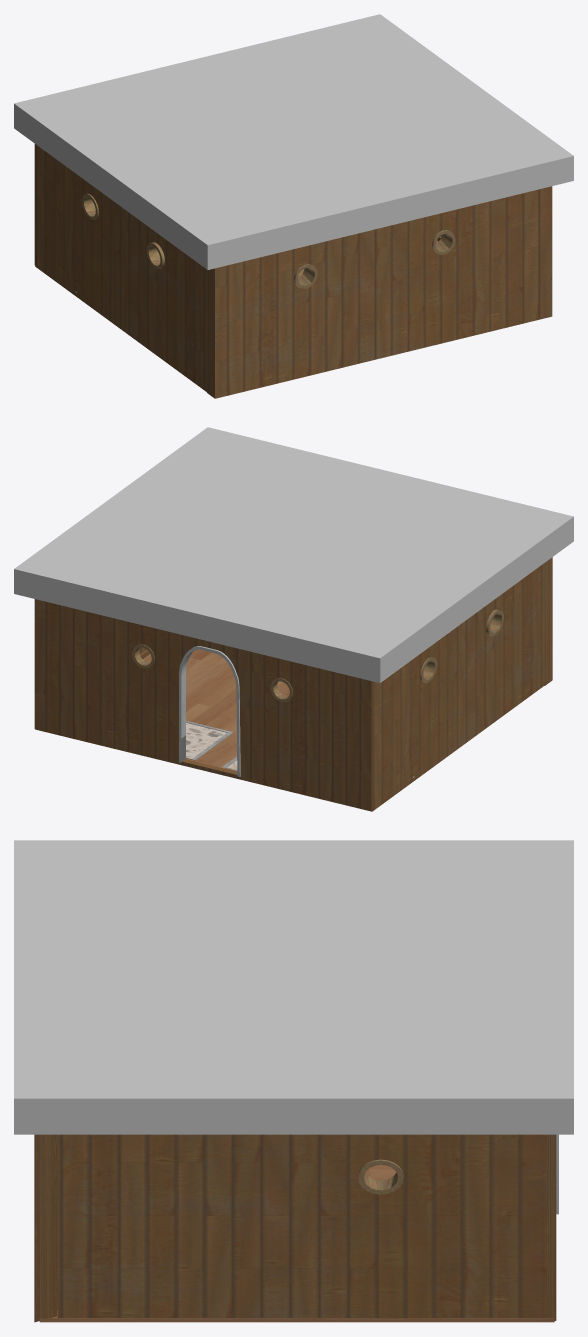
File: lounge.obj
The picture shows the model from 3 angles, top to bottom: view 1: azimuth 30°, elevation 25°; view 2: azimuth 150°, elevation 25°; view 3: azimuth 270°, elevation 25°; orthographic projection. The views are drawn at different scales.
Parts seen in each view (by area): view 1: polySurface184, polySurface189, pCube53; view 2: polySurface184, polySurface6 polySurface133, pCube53, pCube49, polySurface132, polySurface189, polySurface6 polySurface72; view 3: polySurface184, polySurface192, polySurface189, pCube49, polySurface6 polySurface133, polySurface6 polySurface191.
Boxes of the visible parts, x1,y1,x2,y2 form: polySurface184: [14, 14, 573, 269]; polySurface189: [207, 186, 552, 398]; pCube53: [35, 144, 206, 391]; polySurface184: [14, 427, 573, 682]; polySurface6 polySurface133: [34, 599, 372, 811]; pCube53: [372, 563, 544, 810]; pCube49: [35, 649, 543, 811]; polySurface132: [179, 646, 240, 776]; polySurface189: [544, 557, 552, 685]; polySurface6 polySurface72: [186, 723, 226, 759]; polySurface184: [14, 840, 573, 1134]; polySurface192: [57, 1134, 546, 1317]; polySurface189: [34, 1134, 57, 1322]; pCube49: [39, 1165, 554, 1322]; polySurface6 polySurface133: [546, 1134, 556, 1320]; polySurface6 polySurface191: [358, 1159, 403, 1194].
Bounding box in the file's own units: 6.52 × 2.79 × 5.98.
